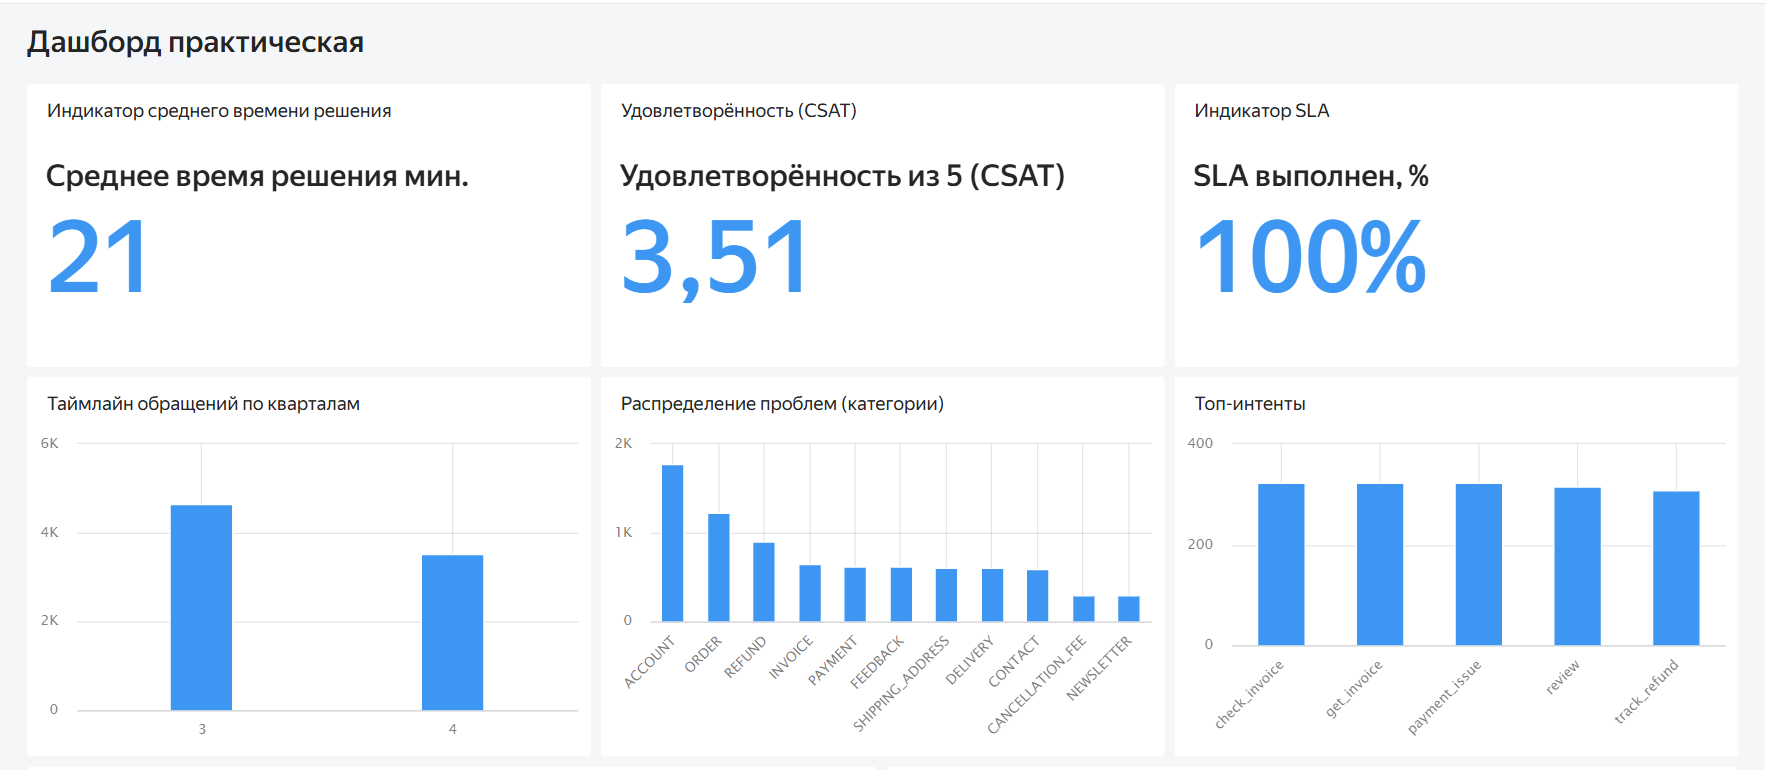

This screenshot's page, from the dashboard's own definition file:
{"tool":"tableau","page":{"name":"Dashboard 1","canvas":[1000,1000],"units":"permille","ordinal":0},"visuals":[{"type":"worksheet","title":"CSAT","mark":"Automatic","box":[4.9,10.1,330.9,489.9]},{"type":"worksheet","title":"среднее время на решение","mark":"Automatic","box":[335.8,10.1,192.6,489.9]},{"type":"worksheet","title":"Процент повторных обращений","mark":"Automatic","box":[528.3,10.1,338.2,489.9]},{"type":"worksheet","title":"Рейтинг специалистов","mark":"Automatic","rows":["agent"],"box":[866.5,10.1,128.6,979.9]},{"type":"worksheet","title":"Таймлайн обращений","mark":"Line","rows":["resolution_minutes"],"cols":["Calculation_309904017624068102"],"box":[4.9,500,330.9,489.9]},{"type":"worksheet","title":"Распределение проблем","mark":"Bar","rows":["Calculation_309904017628094474"],"cols":["category_code"],"box":[335.8,500,292.5,489.9]},{"type":"worksheet","title":"Топ интентов","mark":"Automatic","rows":["Calculation_309904017628426251"],"cols":["intent"],"box":[628.3,500,238.3,489.9]}]}

Visuals, with their boxes on the dashboard's canvas, which has no fixed pixel size, in thousandths of its width and height (x1, y1, x2, y2). These are canvas units, not pixel positions in the 1765x770 screenshot, which may show the page scaled, cropped or inside an application window:
"CSAT" worksheet: l=5, t=10, r=336, b=500
"среднее время на решение" worksheet: l=336, t=10, r=528, b=500
"Процент повторных обращений" worksheet: l=528, t=10, r=866, b=500
"Рейтинг специалистов" worksheet: l=866, t=10, r=995, b=990
"Таймлайн обращений" worksheet (Line marks): l=5, t=500, r=336, b=990
"Распределение проблем" worksheet (Bar marks): l=336, t=500, r=628, b=990
"Топ интентов" worksheet: l=628, t=500, r=867, b=990
